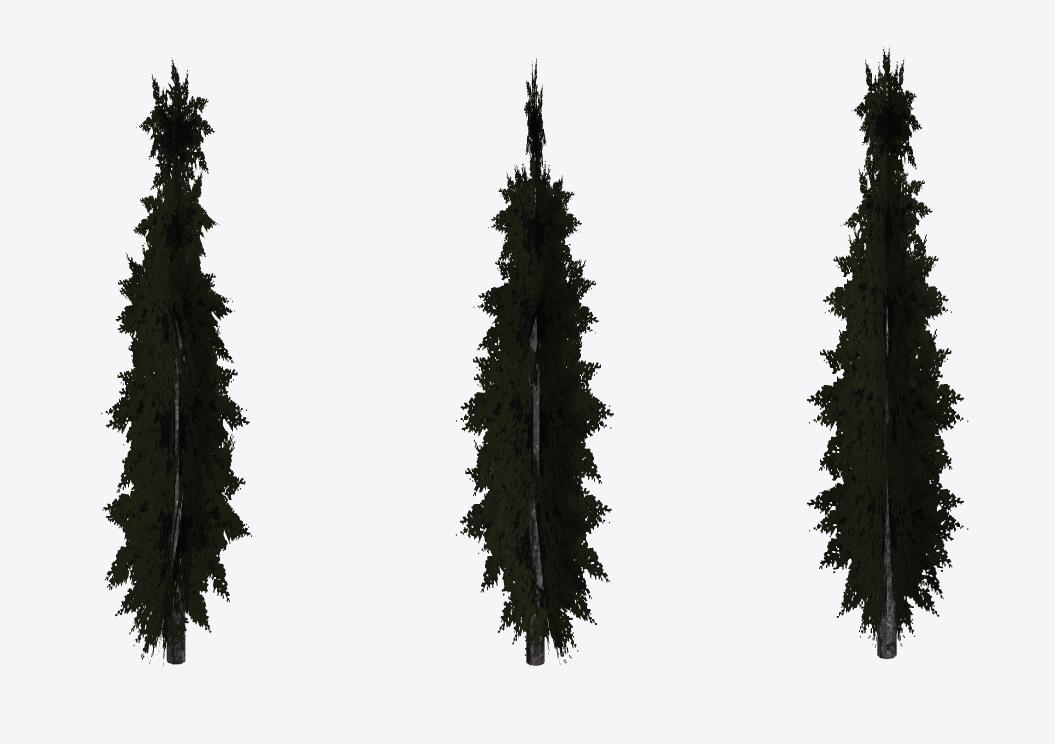
Rendered from cypress.fbx.
3 views of the same model, side by side, from view 1: azimuth 30°, elevation 25°; view 2: azimuth 150°, elevation 25°; view 3: azimuth 270°, elevation 25° (orthographic).
Parts seen in each view (by area): view 1: 2.004, Cylinder; view 2: 2.004, Cylinder; view 3: 2.004, Cylinder.
Boxes of the visible parts, box(x1,y1,x2,y2) form: 2.004: box(101, 58, 251, 665); Cylinder: box(166, 320, 185, 664); 2.004: box(456, 58, 613, 664); Cylinder: box(526, 317, 544, 665); 2.004: box(807, 46, 968, 647); Cylinder: box(877, 306, 896, 658).
Bounding box in the file's own units: 1707 × 3714 × 1611.
